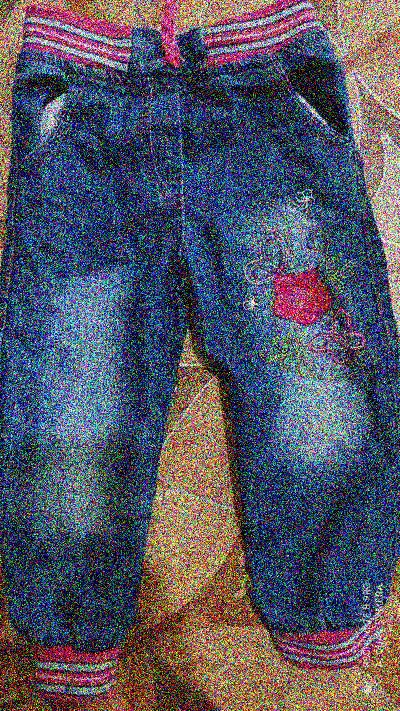Pants: (2, 8, 391, 635)
